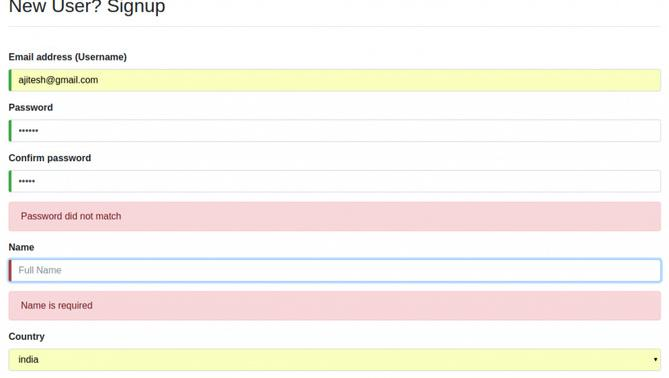field: (5, 254, 663, 285), (7, 66, 662, 95), (6, 167, 664, 195), (6, 117, 663, 144), (7, 346, 663, 372)
field_with_label: (5, 51, 665, 96), (2, 243, 665, 287), (4, 102, 666, 146), (4, 153, 666, 196), (5, 332, 665, 374)
